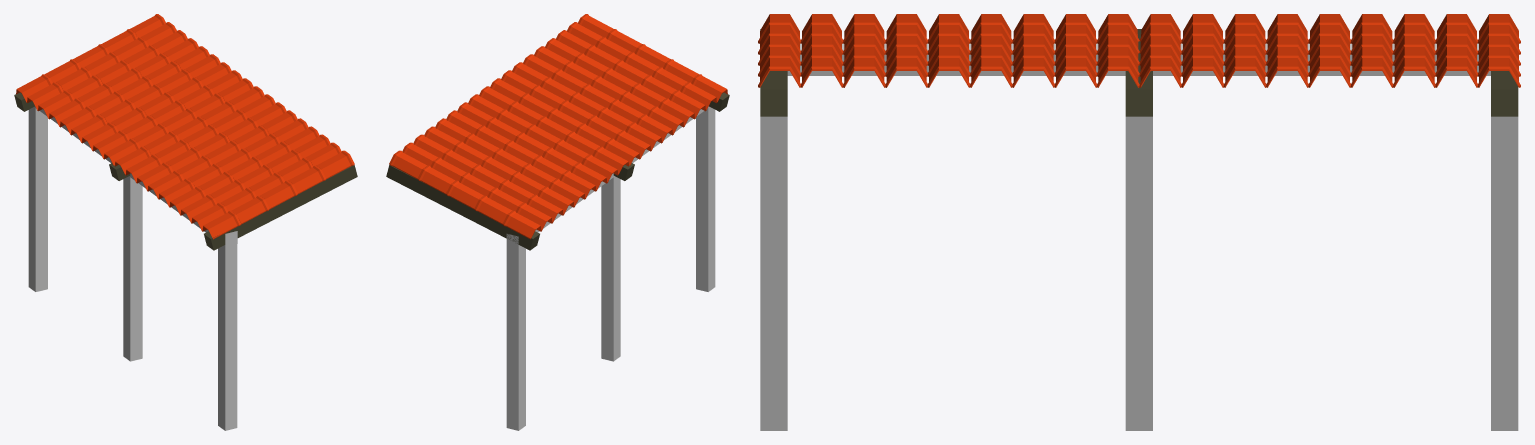
Rendered from Simple Sidewall destruction.fbx.
3 renders of one model, left to right at view 1: azimuth 30°, elevation 25°; view 2: azimuth 150°, elevation 25°; view 3: azimuth 270°, elevation 25°, orthographic. The views are drawn at different scales.
Parts seen in each view (by area): view 1: Cube.1905, Cube.1906, Cube.1904, Cube.1900, Cube.1899, Cube.1903, Cube.1901, Cube.1913, Cube.002, Cube.1902, Cube.1911, Cylinder.207 (+89 smaller); view 2: Cube.1905, Cube.1904, Cube.1899, Cube.1906, Cube.1903, Cube.1900, Cube.002, Cube.1901, Cube.1910, Cube.1902, Cube.004, Cylinder.292 (+89 smaller); view 3: Cube.1906, Cube.1905, Cube.1904, Cube.1903, Cube.1900, Cube.1899, Cube.1901, Cube.1902, Cube.002, Cube.1913, Cube.1910, Cube.1914 (+2 smaller).
Boxes of the visible parts, left/top/right/bottom form: Cube.1905: left=218, top=361, right=237, bottom=430; Cube.1906: left=123, top=292, right=142, bottom=361; Cube.1904: left=123, top=227, right=142, bottom=296; Cube.1900: left=28, top=158, right=47, bottom=227; Cube.1899: left=28, top=222, right=47, bottom=291; Cube.1903: left=218, top=296, right=237, bottom=365; Cube.1901: left=218, top=244, right=237, bottom=301; Cube.1913: left=283, top=165, right=357, bottom=213; Cube.002: left=28, top=106, right=47, bottom=162; Cube.1902: left=123, top=176, right=142, bottom=231; Cube.1911: left=204, top=202, right=285, bottom=250; Cylinder.207: left=202, top=210, right=241, bottom=239; Cube.1905: left=696, top=222, right=715, bottom=291; Cube.1904: left=601, top=227, right=620, bottom=296; Cube.1899: left=506, top=361, right=525, bottom=430; Cube.1906: left=601, top=292, right=620, bottom=361; Cube.1903: left=696, top=158, right=715, bottom=227; Cube.1900: left=506, top=296, right=525, bottom=365; Cube.002: left=506, top=234, right=525, bottom=301; Cube.1901: left=696, top=106, right=715, bottom=162; Cube.1910: left=386, top=165, right=460, bottom=213; Cube.1902: left=601, top=176, right=620, bottom=231; Cube.004: left=458, top=202, right=539, bottom=250; Cylinder.292: left=502, top=210, right=541, bottom=239; Cube.1906: left=1125, top=306, right=1152, bottom=430; Cube.1905: left=760, top=306, right=787, bottom=430; Cube.1904: left=1125, top=181, right=1152, bottom=305; Cube.1903: left=760, top=181, right=787, bottom=305; Cube.1900: left=1491, top=181, right=1518, bottom=305; Cube.1899: left=1491, top=306, right=1518, bottom=430; Cube.1901: left=760, top=116, right=787, bottom=180; Cube.1902: left=1125, top=116, right=1152, bottom=180; Cube.002: left=1491, top=116, right=1518, bottom=180; Cube.1913: left=760, top=71, right=787, bottom=116; Cube.1910: left=1491, top=71, right=1518, bottom=116; Cube.1914: left=1125, top=59, right=1152, bottom=116.
Size of the model in its own units: 3.6 by 5.71 by 8.39.
